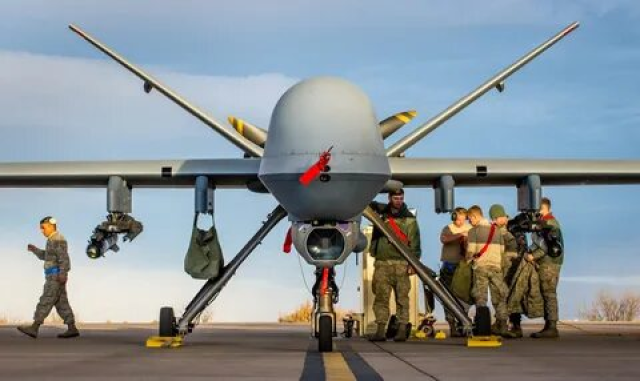military drone: (0, 19, 640, 339)
